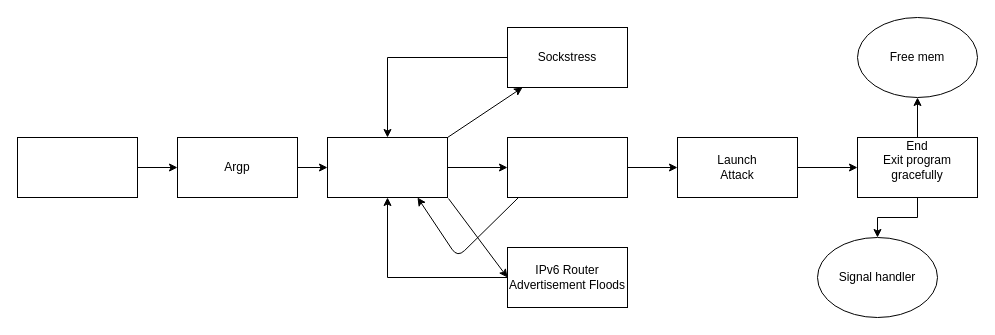
Some shapes in this 995 by 335 pixel diagram are drawn without their labels. The shapes that lost their labels are listed below. From the top down, each one's centre as x and y in pixels, then its label:
At (x=77, y=167): "Terminal (main)".
At (x=387, y=167): "Command".
At (x=567, y=167): "DNS Amplification".
